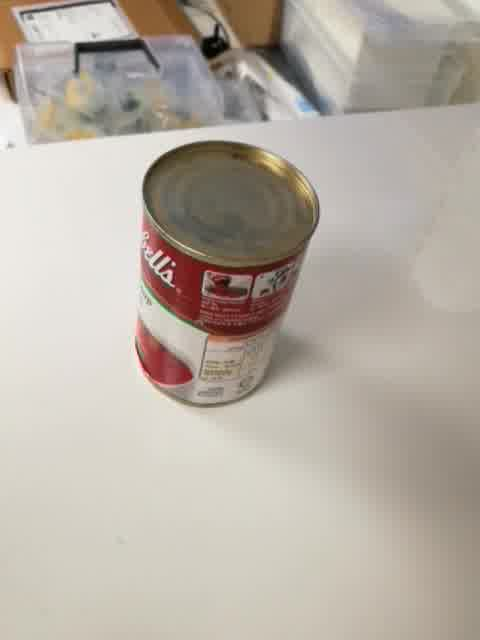tomatosoup: (132, 139, 323, 410)
